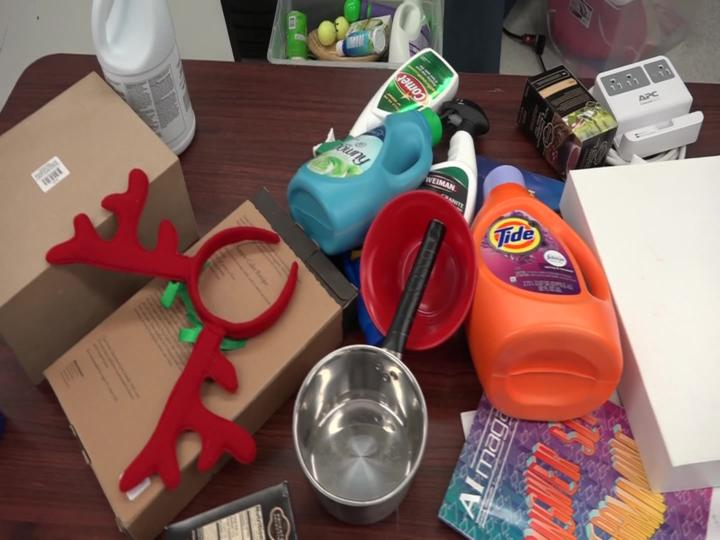tide: (444, 145, 638, 431)
